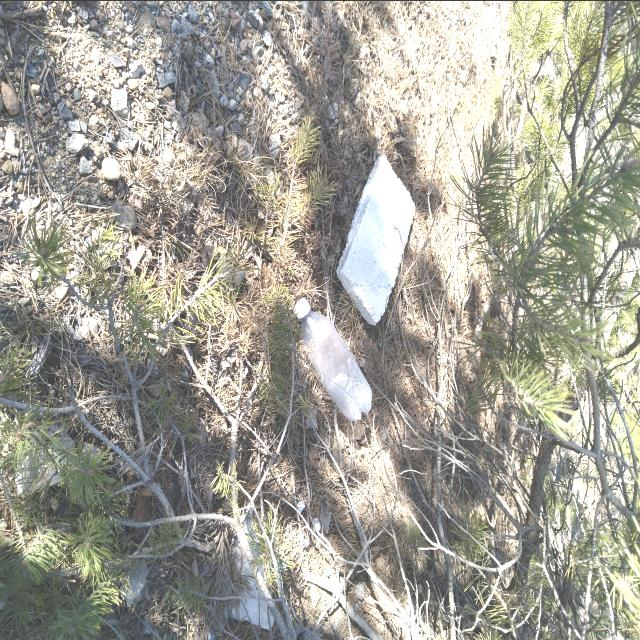Clear plastic bottle: (293, 297, 372, 420)
Plastic bottle cap: (293, 297, 309, 316)
Plastic film: (15, 424, 100, 496)
Styrofoam piece: (337, 154, 415, 325), (297, 499, 306, 512)
